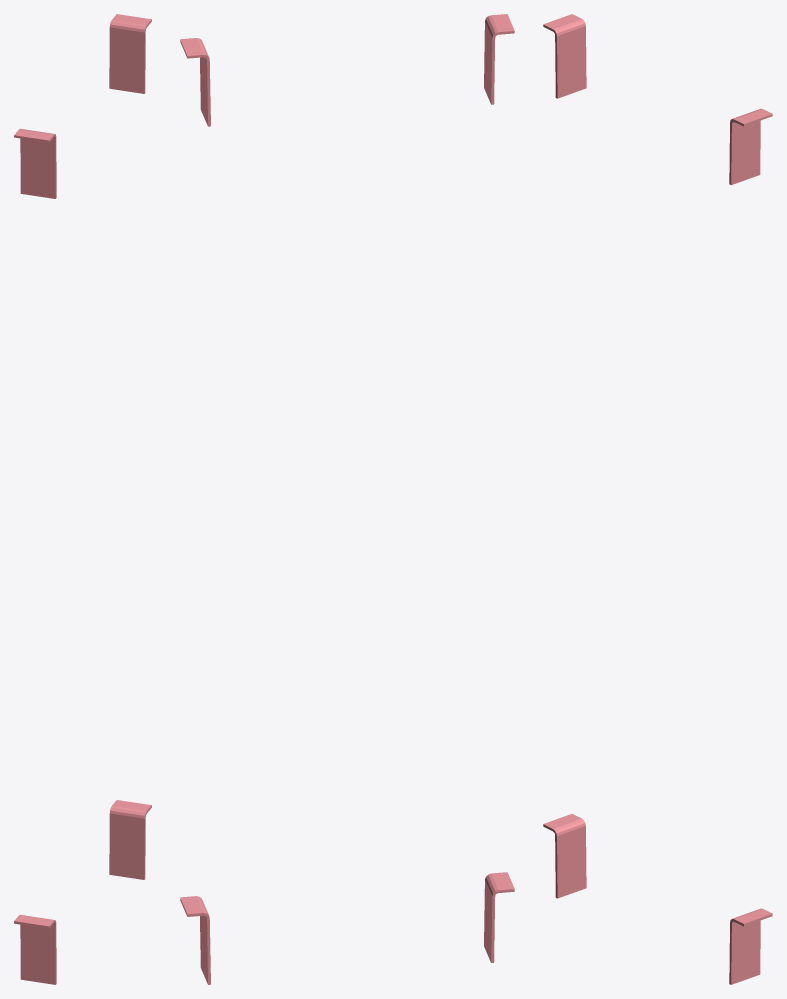
3 renders of one model, left to right at view 1: azimuth 30°, elevation 25°; view 2: azimuth 150°, elevation 25°; view 3: azimuth 270°, elevation 25°, orthographic. The views are drawn at different scales.
Bounding box in the file's own units: 1.17 × 4.28 × 1.03.
